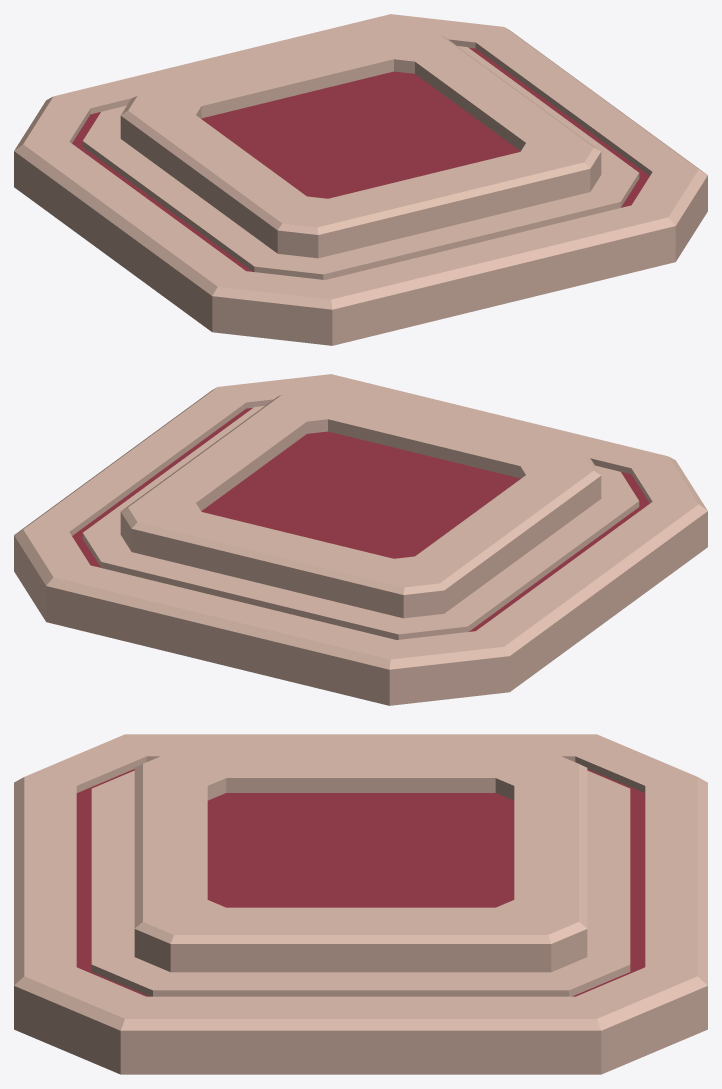
File: pr_SpawnPoint.FBX
3 renders of one model, top to bottom at view 1: azimuth 30°, elevation 25°; view 2: azimuth 150°, elevation 25°; view 3: azimuth 270°, elevation 25°, orthographic. The views are drawn at different scales.
Visible parts, largest first — view 1: pr_SpawnPoint; view 2: pr_SpawnPoint; view 3: pr_SpawnPoint.
Part boxes in pixels (bbox=[...]): pr_SpawnPoint: bbox=[14, 14, 707, 345]; pr_SpawnPoint: bbox=[14, 374, 707, 705]; pr_SpawnPoint: bbox=[14, 734, 707, 1074].
Size of the model in its own units: 200 by 27.08 by 200.
1 material, 1 textured.
